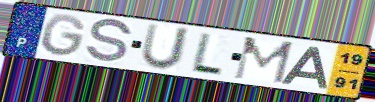A: (278, 45, 330, 90)
G: (40, 13, 89, 59)
L: (187, 31, 226, 78)
M: (231, 35, 297, 86)
S: (83, 18, 135, 65)
U: (138, 22, 194, 72)
